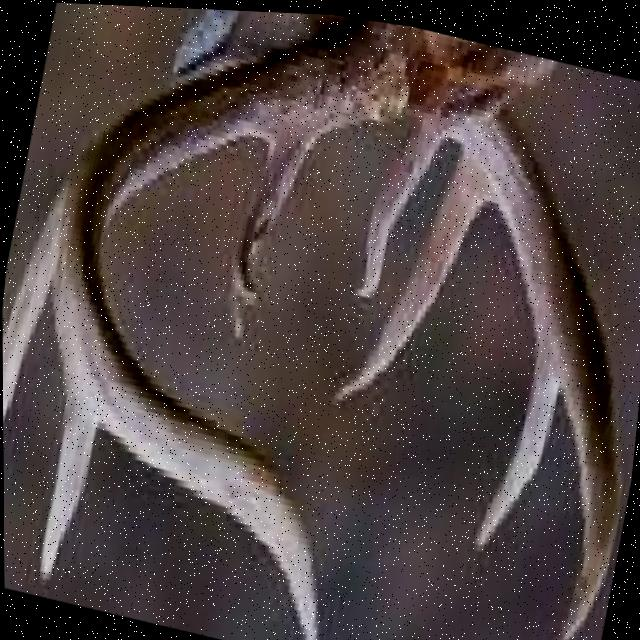L-F: (407, 86, 619, 640)
L-G1: (347, 116, 448, 300)
L-G2: (328, 144, 489, 405)
L-G3: (470, 331, 559, 552)
R-F: (49, 16, 413, 640)
R-G1: (227, 135, 324, 309)
R-G2: (2, 168, 68, 425)
R-G3: (35, 395, 98, 590)
